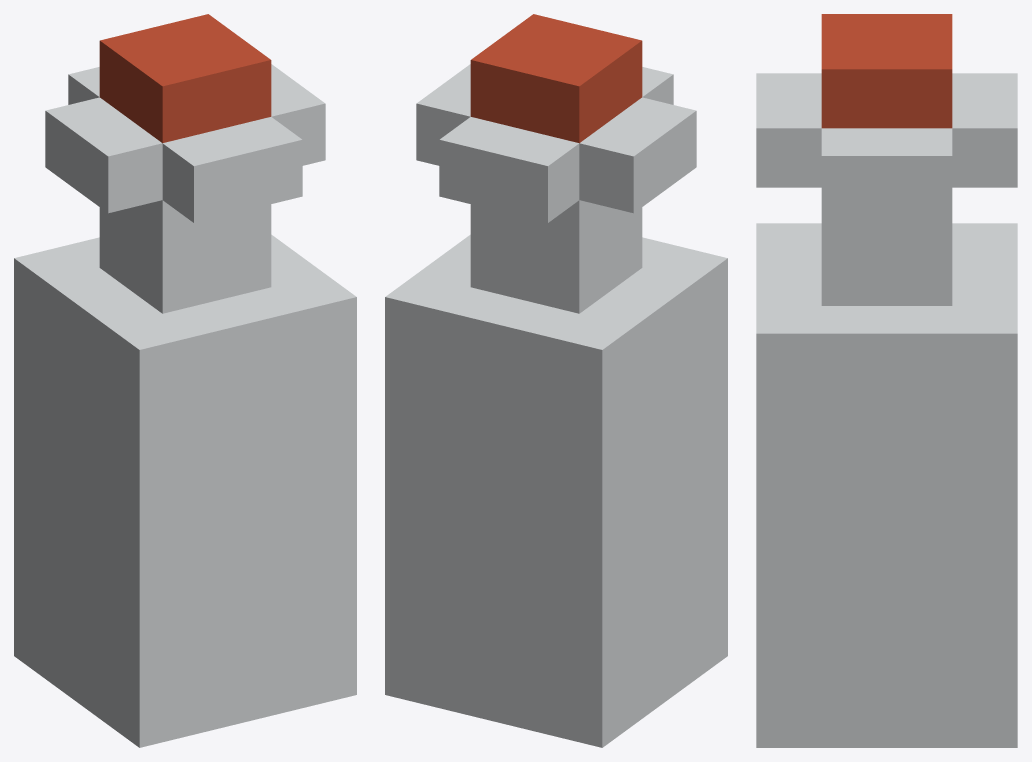
Rendered from bottle.glb.
3 renders of one model, left to right at view 1: azimuth 30°, elevation 25°; view 2: azimuth 150°, elevation 25°; view 3: azimuth 270°, elevation 25°, orthographic. The views are drawn at different scales.
Visible parts, largest first — view 1: Untitled.001, Untitled; view 2: Untitled.001, Untitled; view 3: Untitled.001, Untitled.
Boxes of the visible parts, left/top/right/bottom form: Untitled.001: left=14, top=64, right=356, bottom=747; Untitled: left=99, top=14, right=271, bottom=143; Untitled.001: left=385, top=64, right=727, bottom=747; Untitled: left=470, top=14, right=642, bottom=143; Untitled.001: left=756, top=73, right=1017, bottom=747; Untitled: left=821, top=14, right=952, bottom=128.
Size of the model in its own units: 0.12 by 0.33 by 0.12.
Materials: 3 (3 with a texture image).
